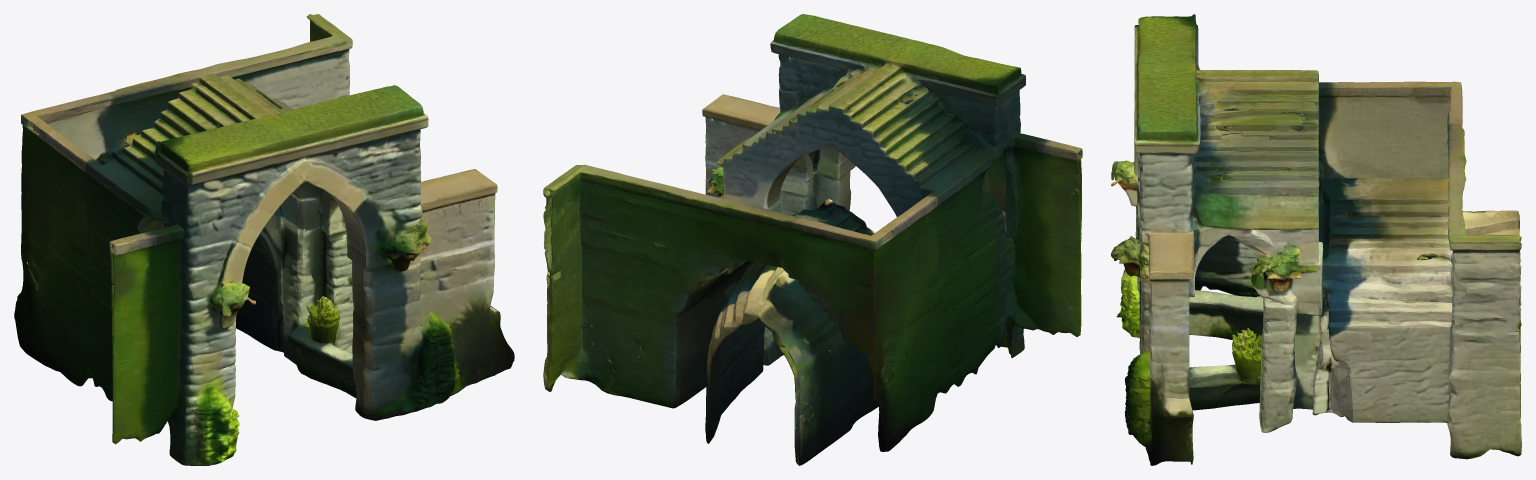
File: landmark_drowned_bell_tower.glb
3 renders of one model, left to right at view 1: azimuth 30°, elevation 25°; view 2: azimuth 150°, elevation 25°; view 3: azimuth 270°, elevation 25°, orthographic. The views are drawn at different scales.
Parts seen in each view (by area): view 1: geometry_0; view 2: geometry_0; view 3: geometry_0.
Part boxes in pixels (box(x1,y1,x2,y2)): geometry_0: box(14, 14, 514, 465); geometry_0: box(543, 14, 1082, 465); geometry_0: box(1111, 14, 1521, 465).
Bounding box in the file's own units: 1 × 0.7156 × 0.8762.
Materials: 1 (1 with a texture image).
